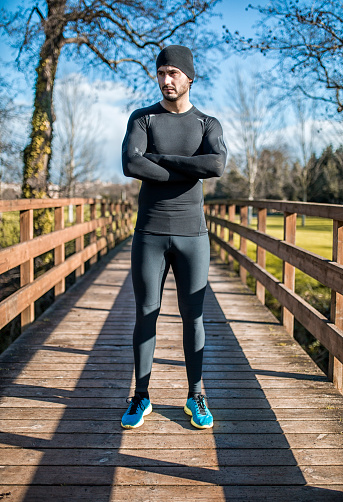em pe: (106, 42, 231, 447)
